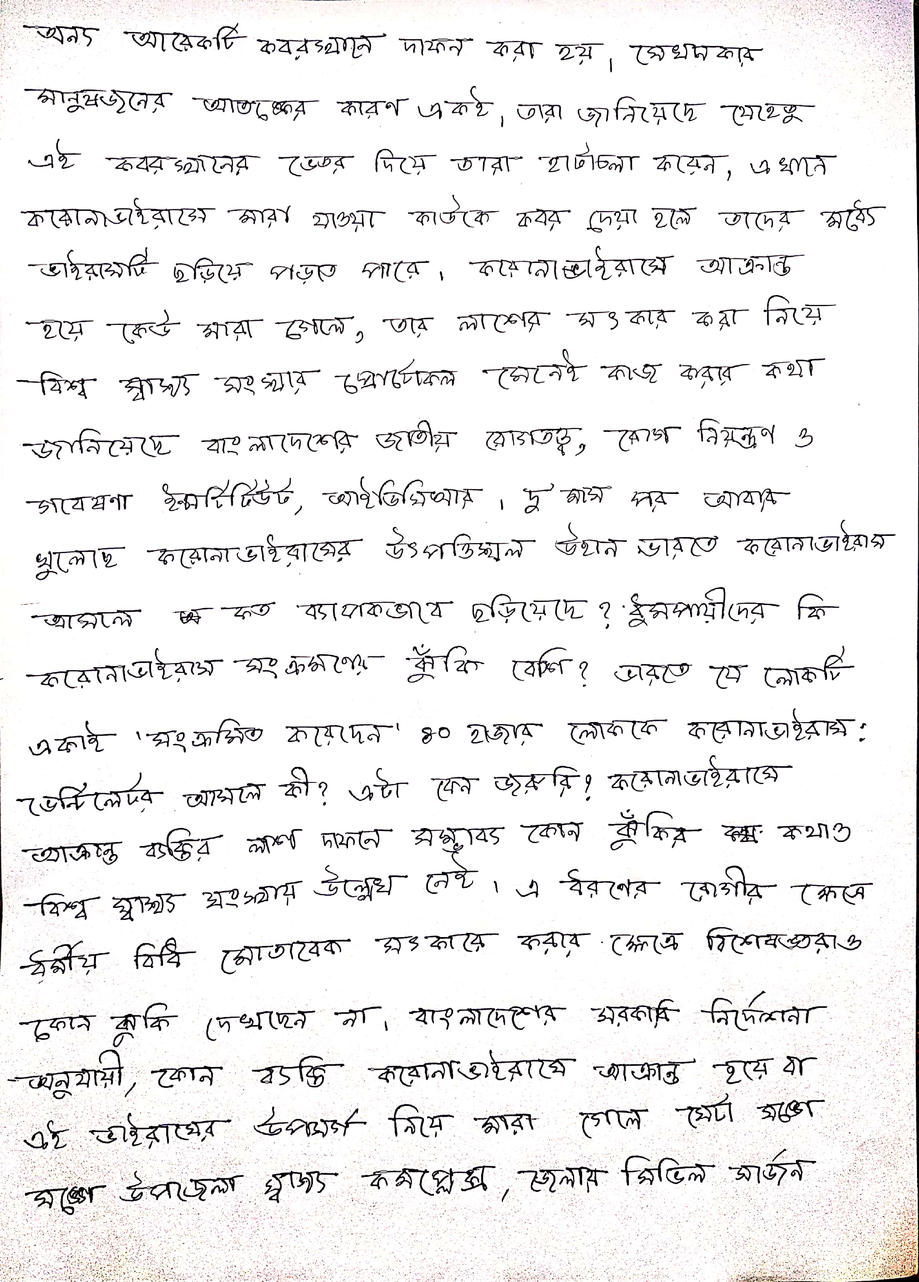line: (23, 851, 870, 921), (34, 519, 897, 583), (29, 1147, 816, 1214), (23, 1092, 826, 1152), (26, 808, 852, 866), (18, 755, 794, 814), (22, 926, 864, 978), (20, 993, 825, 1047), (26, 707, 865, 758), (12, 1048, 819, 1099), (20, 351, 825, 401), (25, 295, 836, 344), (19, 189, 887, 234), (23, 21, 763, 73), (20, 416, 815, 462), (24, 81, 816, 127), (24, 645, 852, 689), (26, 589, 840, 631), (28, 139, 836, 181), (29, 244, 802, 287), (25, 475, 791, 516)
